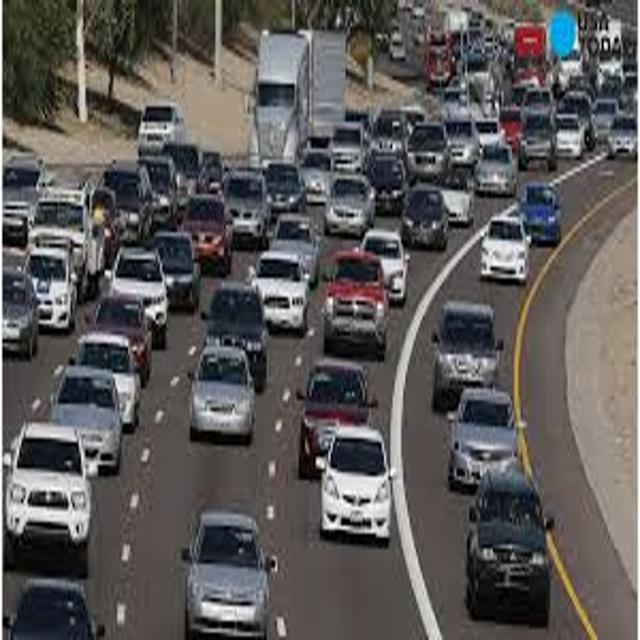car: (467, 471, 554, 618), (181, 512, 277, 635), (3, 424, 94, 550), (296, 362, 379, 474), (314, 426, 395, 540), (446, 388, 526, 486), (51, 368, 123, 471), (431, 303, 505, 402), (322, 252, 392, 349), (69, 333, 140, 426), (188, 347, 257, 437), (1, 272, 40, 359), (479, 217, 531, 280), (399, 189, 450, 245), (519, 181, 562, 243), (606, 114, 640, 156)
